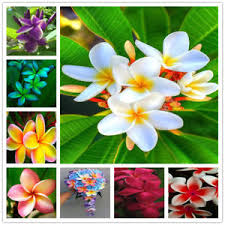frangipani: (8, 168, 56, 217)
